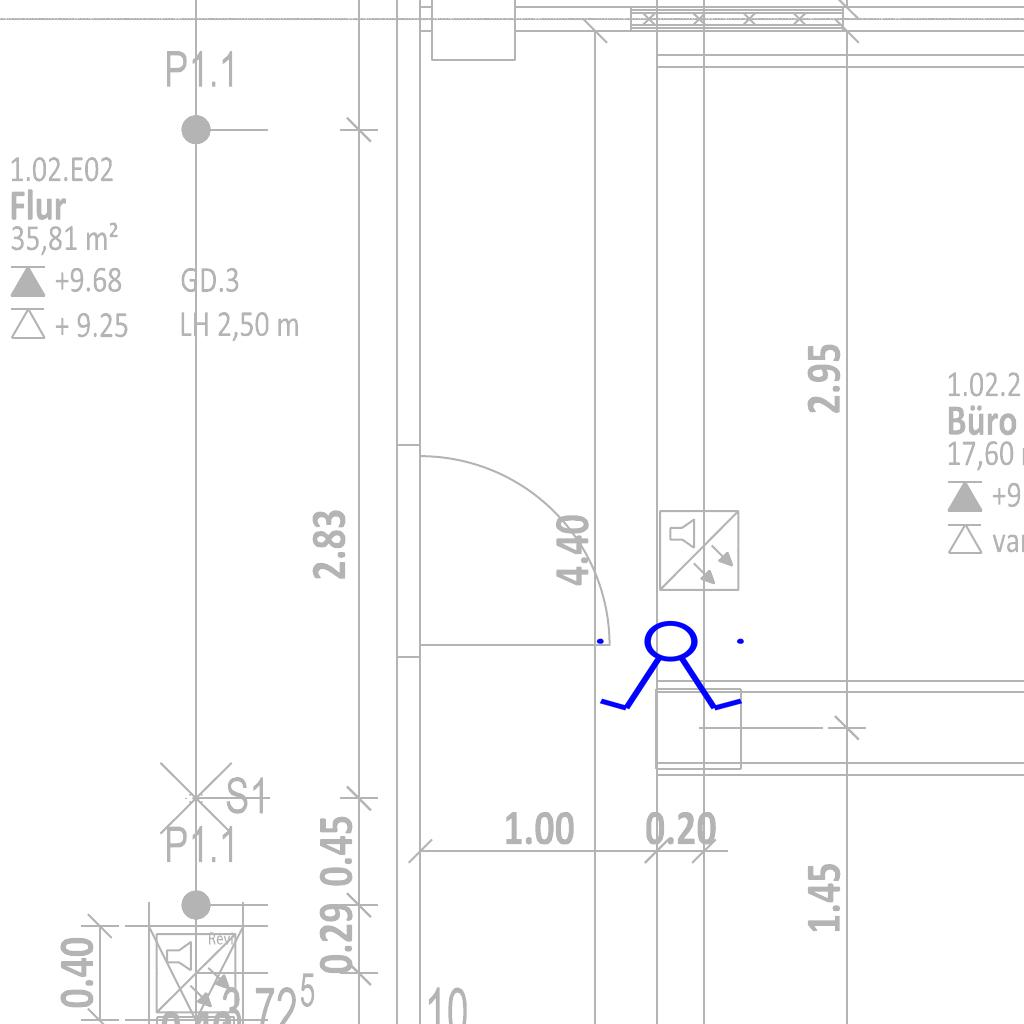Serienschalter: (588, 619, 756, 715)
